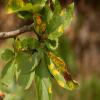Apple rust leaf: (46, 47, 81, 96), (44, 4, 81, 43), (14, 45, 43, 76), (30, 13, 49, 38)
